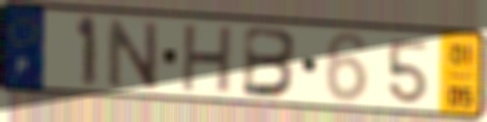1: (71, 13, 101, 90)
5: (385, 38, 432, 105)
6: (321, 29, 372, 107)
B: (239, 24, 302, 101)
H: (179, 23, 237, 97)
N: (104, 16, 162, 91)
